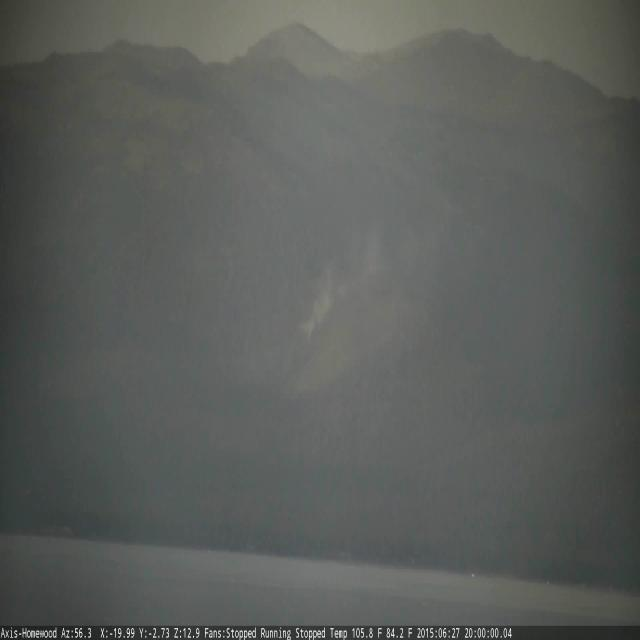smoke: (305, 268, 354, 350)
